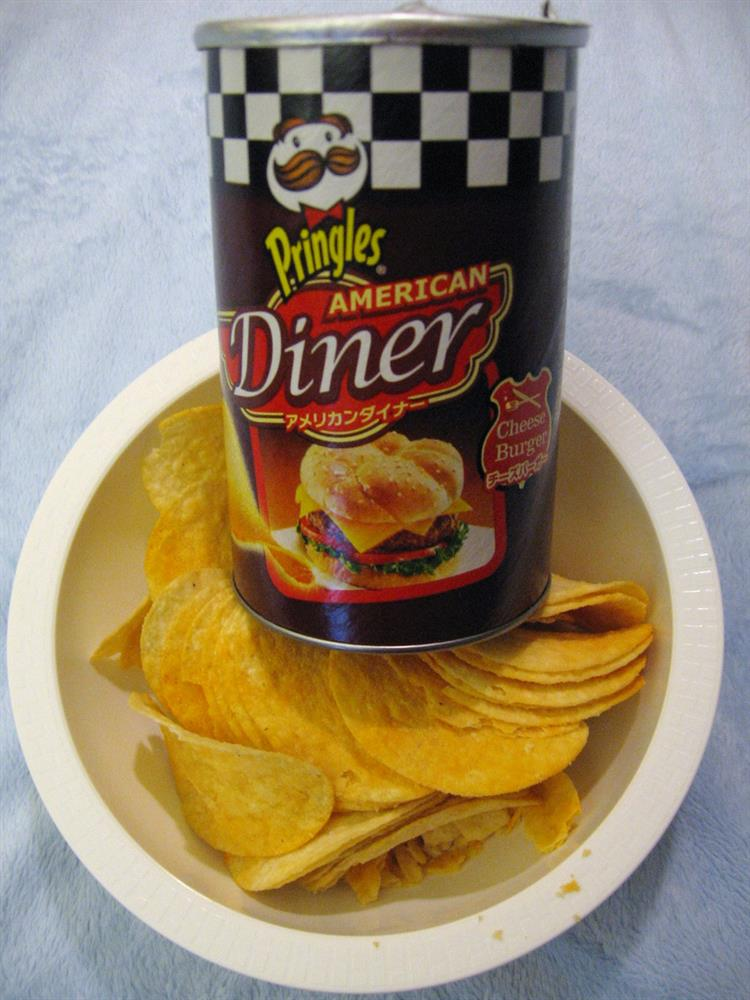pringles: (238, 111, 410, 302)
